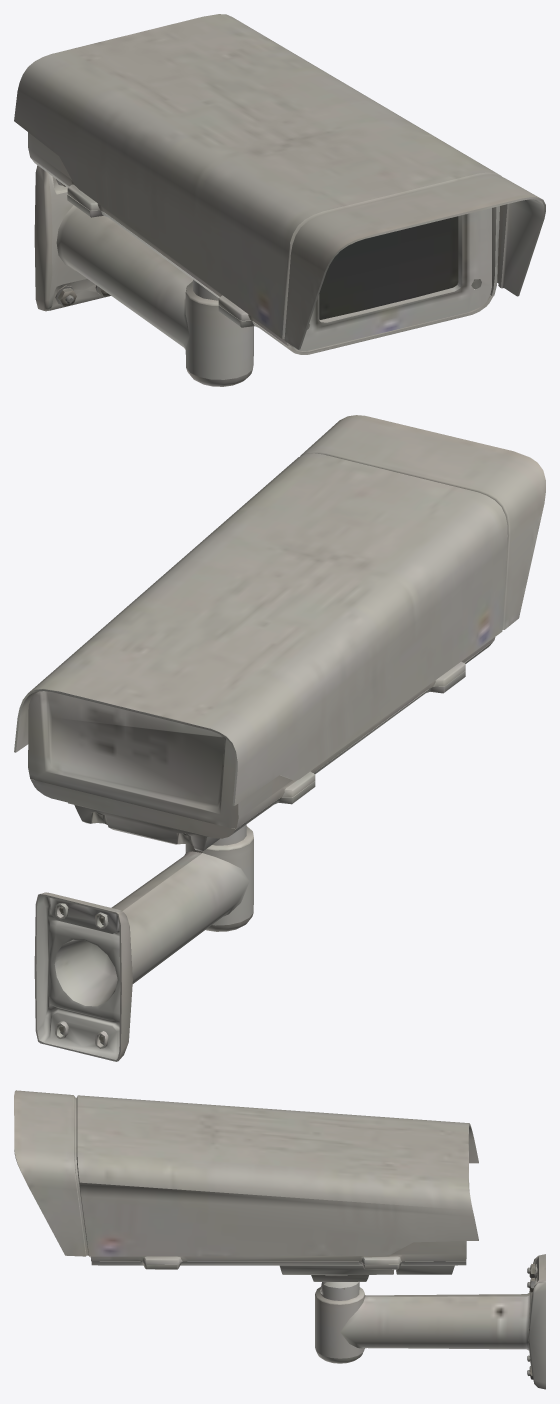
Rendered from security_camera_02_lod1.glb.
The picture shows the model from 3 angles, top to bottom: view 1: azimuth 30°, elevation 25°; view 2: azimuth 150°, elevation 25°; view 3: azimuth 270°, elevation 25°; orthographic projection. The views are drawn at different scales.
Visible parts, largest first — view 1: security_camera_02_mount, security_camera_02; view 2: security_camera_02_mount; view 3: security_camera_02_mount.
Boxes of the visible parts, left/top/right/bottom form: security_camera_02_mount: left=14, top=14, right=545, bottom=386; security_camera_02: left=319, top=216, right=458, bottom=319; security_camera_02_mount: left=14, top=415, right=545, bottom=1061; security_camera_02_mount: left=14, top=1090, right=545, bottom=1389.
Size of the model in its own units: 0.1406 by 0.2083 by 0.3937.
2 materials, 2 textured.
